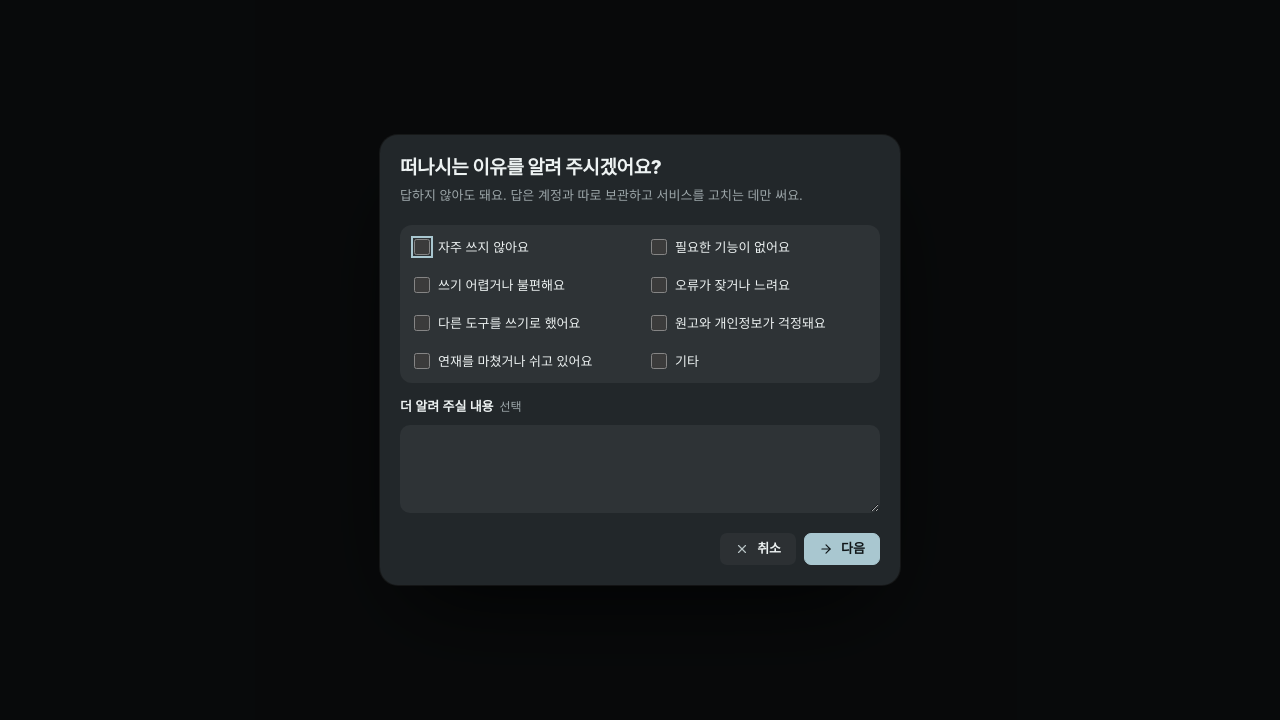
Test: AccountDeleteDialog › counts what will be deleted and waits for the exact email
Step 1. Click the button "다음" → (842, 549), box [804, 533, 880, 565]
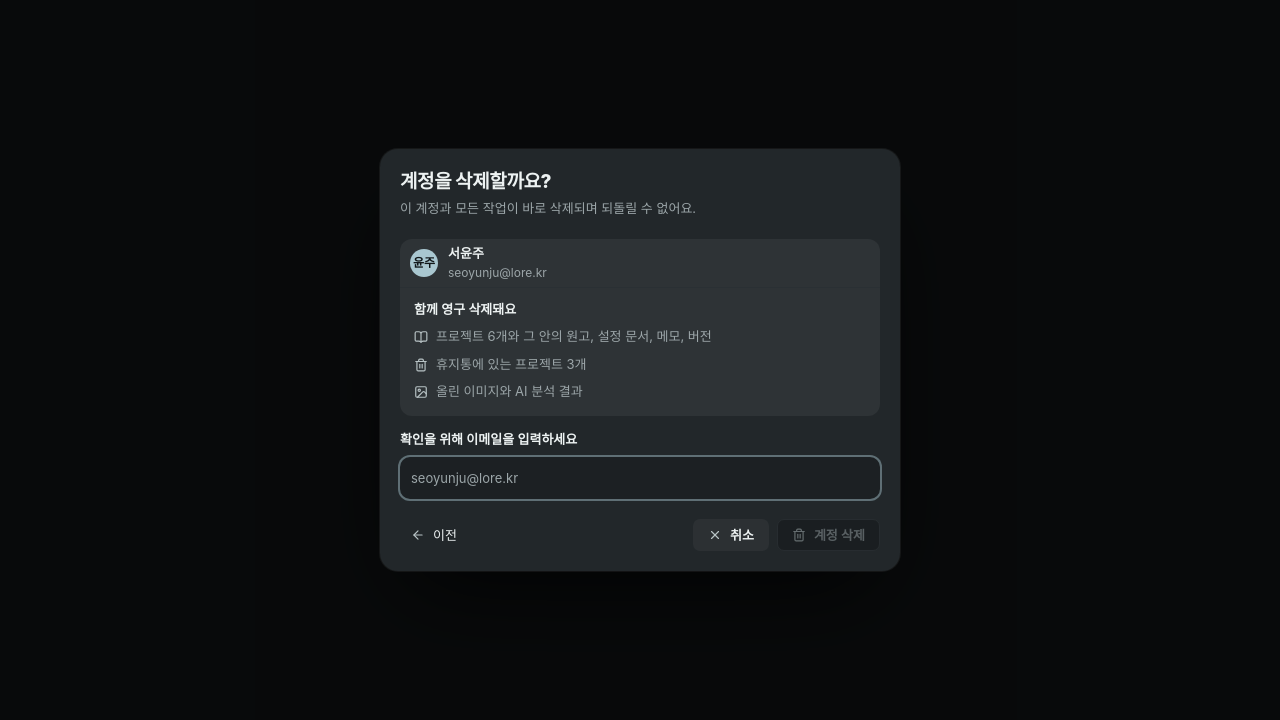
expect the list item "프로젝트 6개와 그 안의 원고, 설정 문서, 메모, 버전" is shown: met, box [414, 328, 712, 344]
expect the list item "휴지통에 있는 프로젝트 3개" is shown: met, box [414, 356, 587, 372]
expect the button "계정 삭제" is disabled: met, box [777, 519, 880, 551]
Step 2. Type "seoyunju@lore" into the field → (640, 478), box [400, 457, 880, 499]
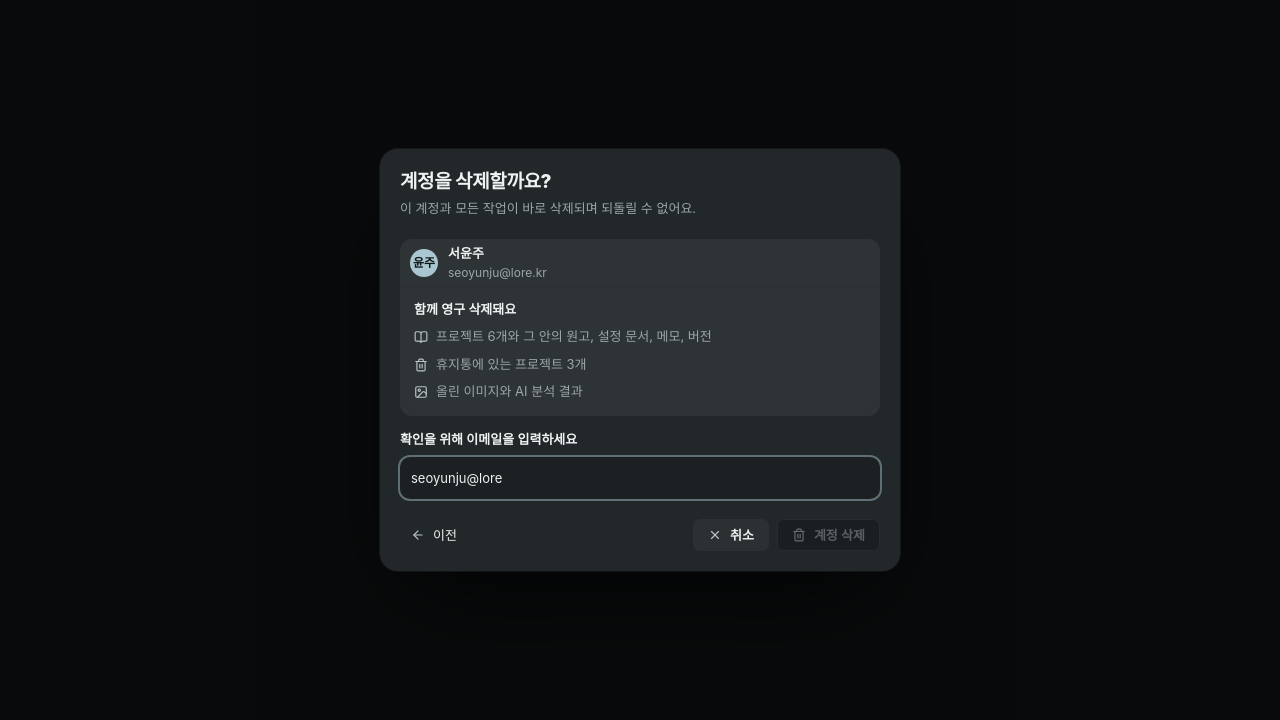
expect the button "계정 삭제" is disabled: met, box [777, 519, 880, 551]
Step 3. Type ".KR " into the field → (640, 478), box [400, 457, 880, 499]
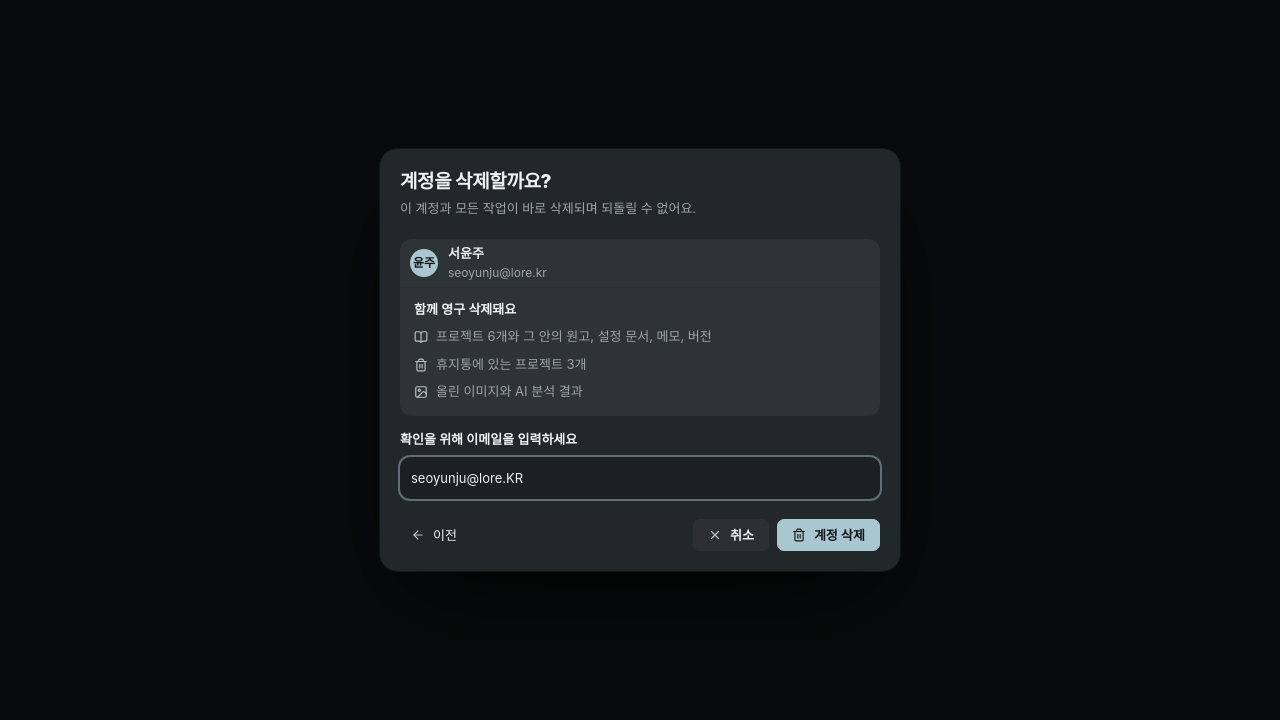
expect the button "계정 삭제" is enabled: met, box [777, 519, 880, 551]
